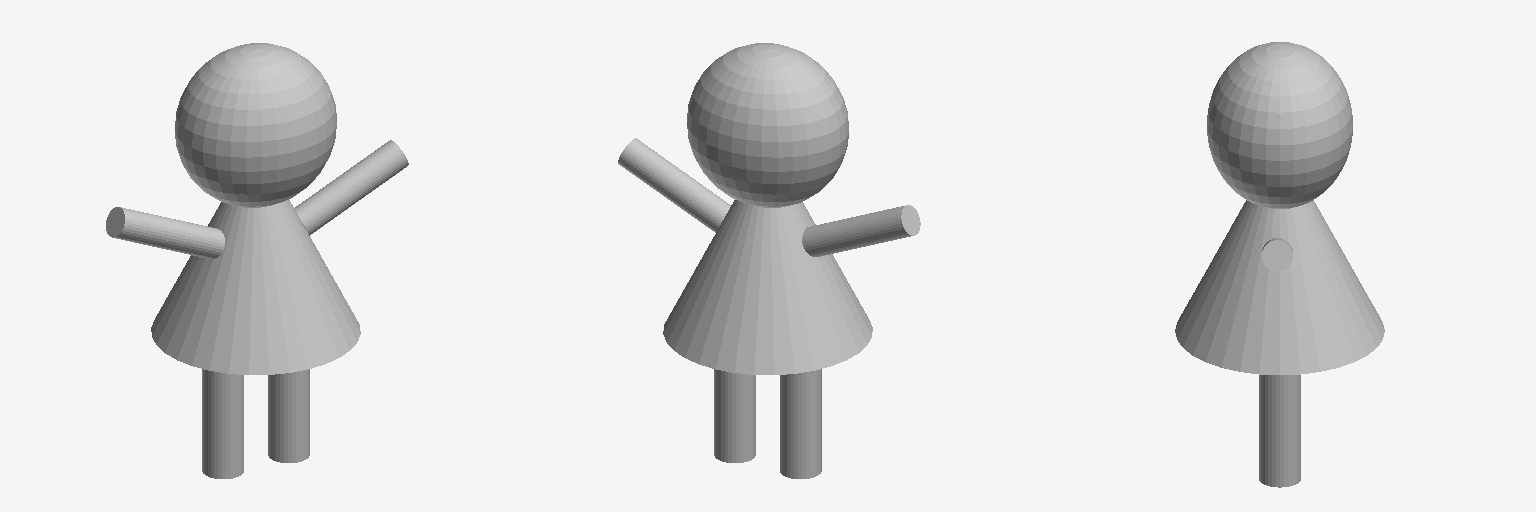
The model's file is Harry.obj.
3 renders of one model, left to right at view 1: azimuth 30°, elevation 25°; view 2: azimuth 150°, elevation 25°; view 3: azimuth 270°, elevation 25°, orthographic.
Parts seen in each view (by area): view 1: Harry; view 2: Harry; view 3: Harry.
Boxes of the visible parts, <box> form: Harry: <box>106,43,408,478</box>; Harry: <box>618,43,920,478</box>; Harry: <box>1175,42,1384,487</box>.
Bounding box in the file's own units: 3.24 × 4.34 × 2.